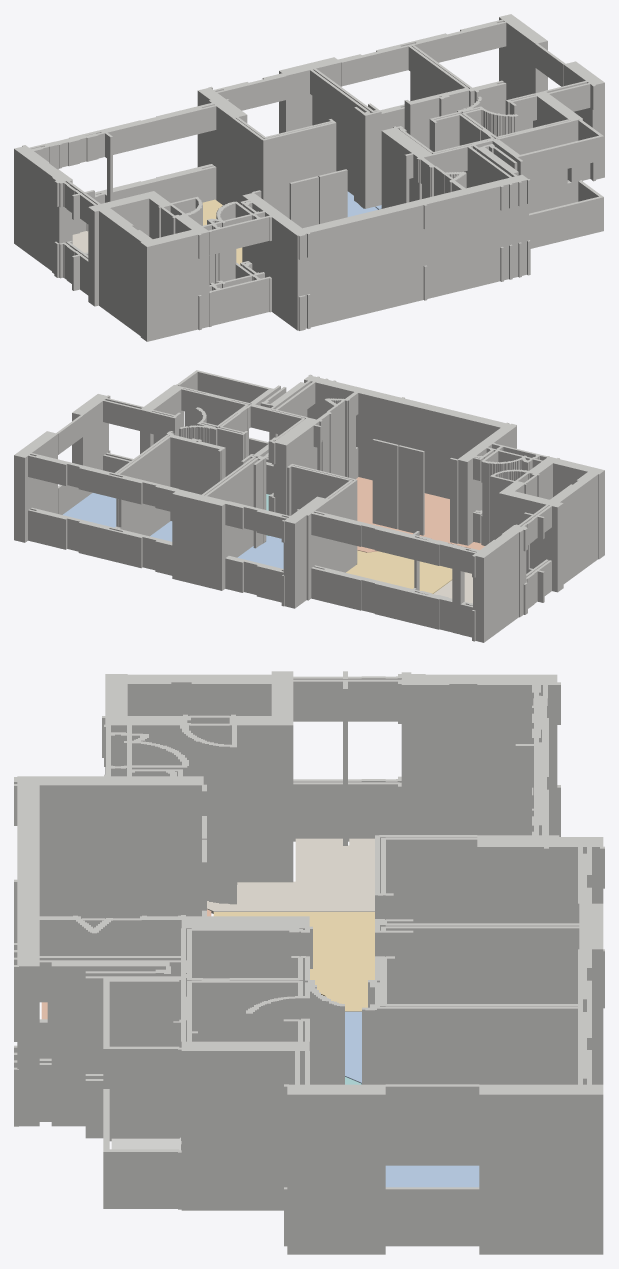
3 renders of one model, top to bottom at view 1: azimuth 30°, elevation 25°; view 2: azimuth 150°, elevation 25°; view 3: azimuth 270°, elevation 25°, orthographic. The views are drawn at different scales.
Parts seen in each view (by area): view 1: walls; view 2: walls, room:living:4, room:kitchen:10, room:bedroom:2, room:bedroom:1, room:other:0; view 3: walls, room:other:0, room:living:4, room:bedroom:2, room:bedroom:1, room:ledge:8.
Part boxes in pixels (box(x1,y1,x2,y2)): walls: box(14, 14, 604, 341); walls: box(14, 370, 604, 642); room:living:4: box(346, 550, 452, 593); room:kitchen:10: box(356, 477, 484, 552); room:bedroom:2: box(63, 493, 116, 527); room:bedroom:1: box(237, 536, 283, 568); room:other:0: box(433, 572, 472, 603); walls: box(14, 671, 604, 1254); room:other:0: box(207, 838, 374, 913); room:living:4: box(213, 912, 374, 1011); room:bedroom:2: box(385, 1165, 479, 1187); room:bedroom:1: box(345, 1011, 361, 1084); room:ledge:8: box(111, 1137, 180, 1150).
Size of the model in its own units: 15.91 by 2.8 by 9.38.
